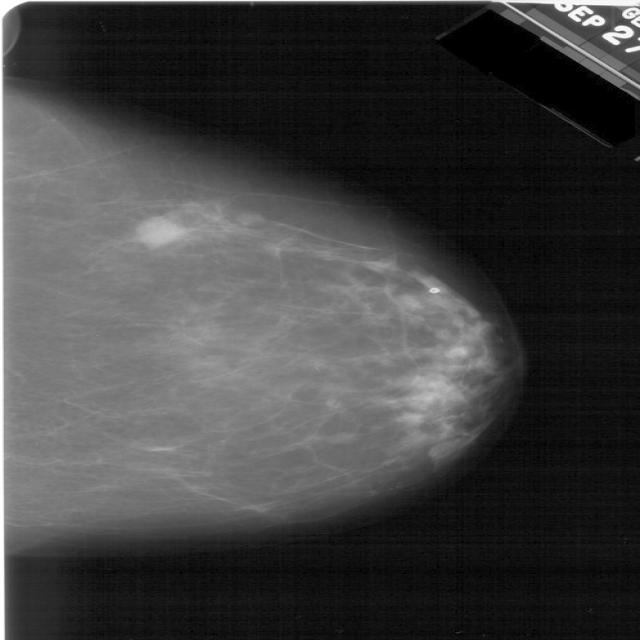tumour: (137, 217, 184, 247)
